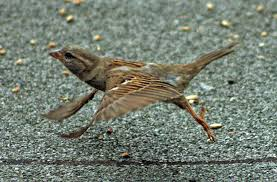hsparrow: (39, 40, 245, 143)
